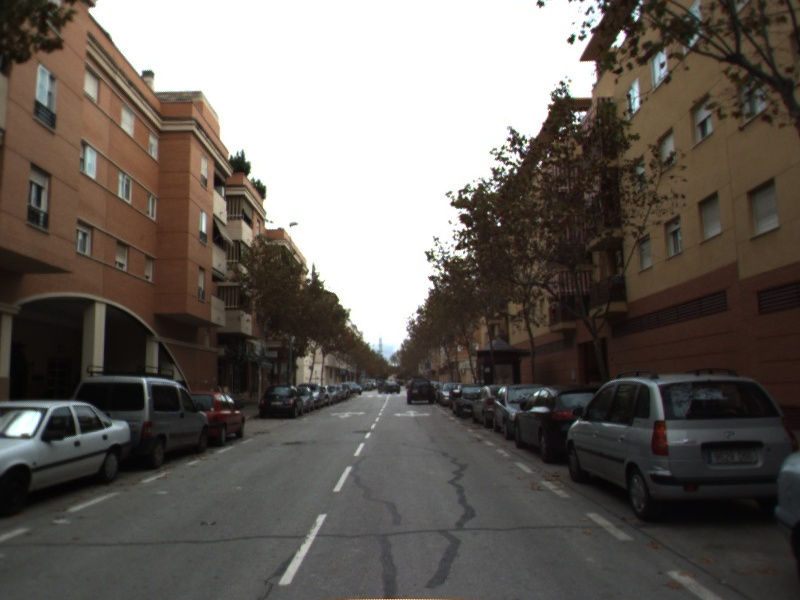STRAIGHT_LEFT_RIGHT: (391, 408, 433, 419)
